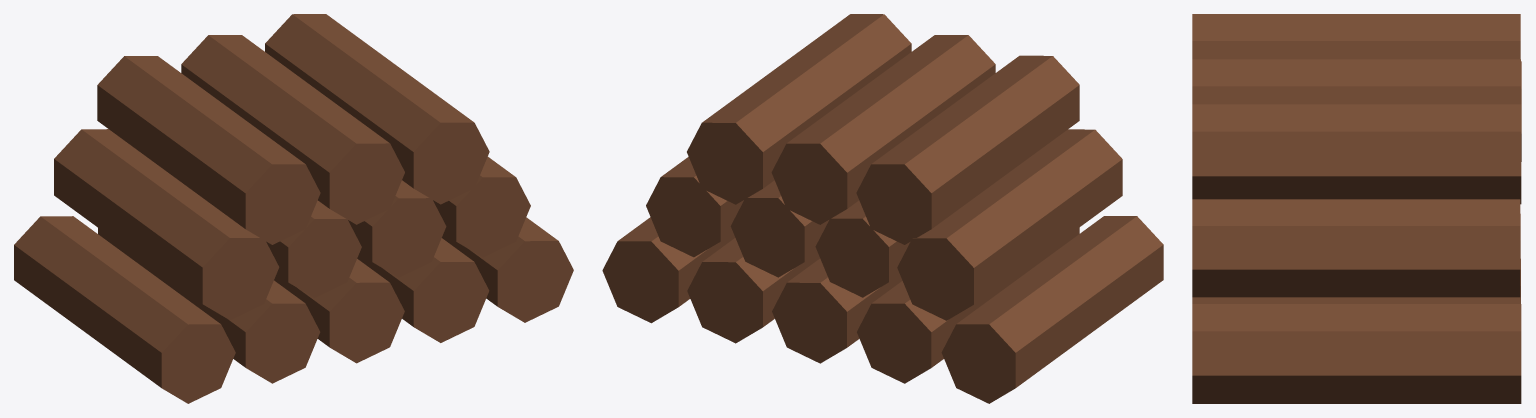
Rendered from Log_Pile.fbx.
The picture shows the model from 3 angles, left to right: view 1: azimuth 30°, elevation 25°; view 2: azimuth 150°, elevation 25°; view 3: azimuth 270°, elevation 25°; orthographic projection. The views are drawn at different scales.
Parts seen in each view (by area): view 1: Log_Pile; view 2: Log_Pile; view 3: Log_Pile.
Part boxes in pixels (bbox=[...]): Log_Pile: bbox=[14, 14, 573, 403]; Log_Pile: bbox=[602, 14, 1163, 403]; Log_Pile: bbox=[1192, 14, 1521, 403].
Size of the model in its own units: 1.61 by 0.8261 by 1.01.
